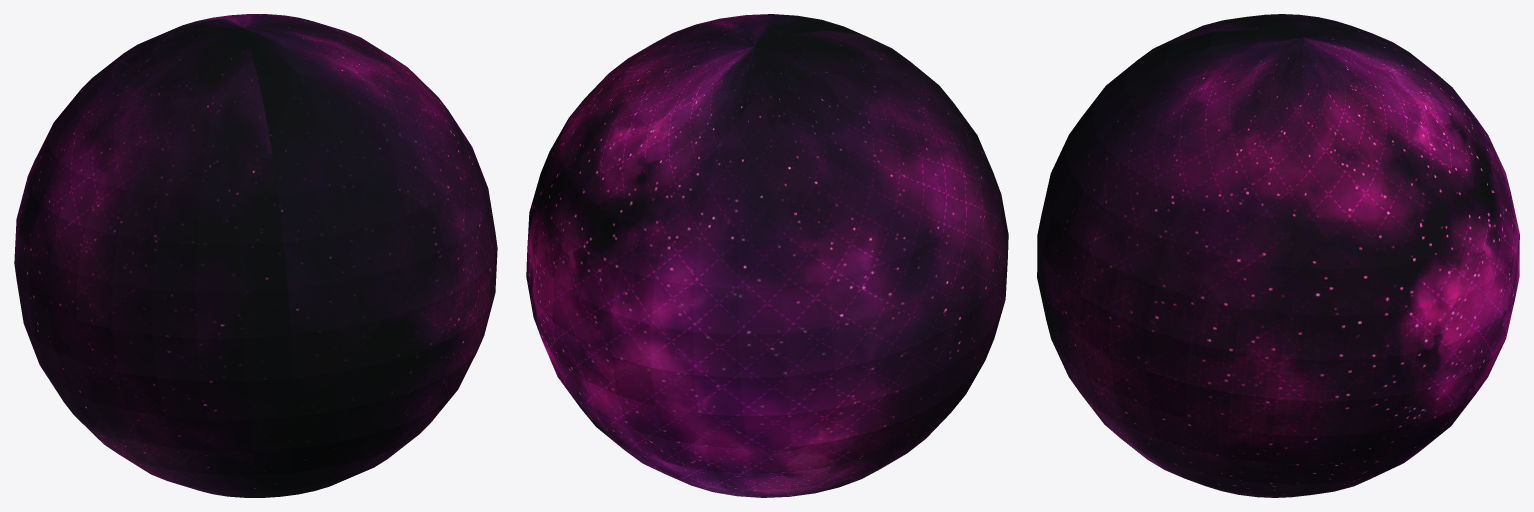
The model's file is Desk_Flag_Pack_FREE_Low_Poly.glb.
3 views of the same model, side by side, from view 1: azimuth 30°, elevation 25°; view 2: azimuth 150°, elevation 25°; view 3: azimuth 270°, elevation 25° (orthographic).
Parts seen in each view (by area): view 1: unnamed; view 2: unnamed; view 3: unnamed.
Part boxes in pixels (left/top/right/bottom): unnamed: left=14, top=14, right=497, bottom=497; unnamed: left=526, top=14, right=1008, bottom=497; unnamed: left=1037, top=14, right=1519, bottom=497.
Bounding box in the file's own units: 2309 × 2299 × 2300.
3 materials, 3 textured.
